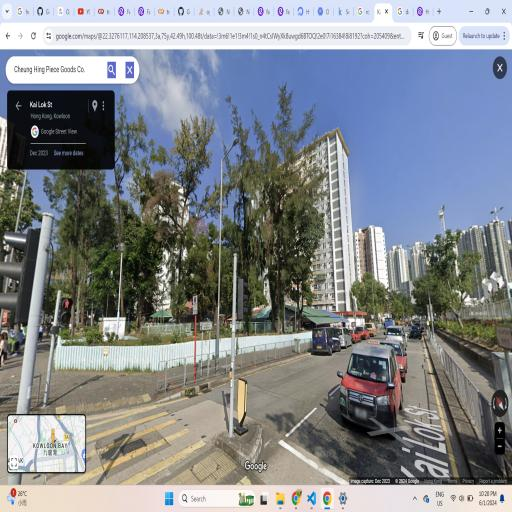Roads: (8, 296, 457, 479)
Trees: (208, 62, 328, 320), (141, 95, 222, 349), (420, 218, 478, 345)
